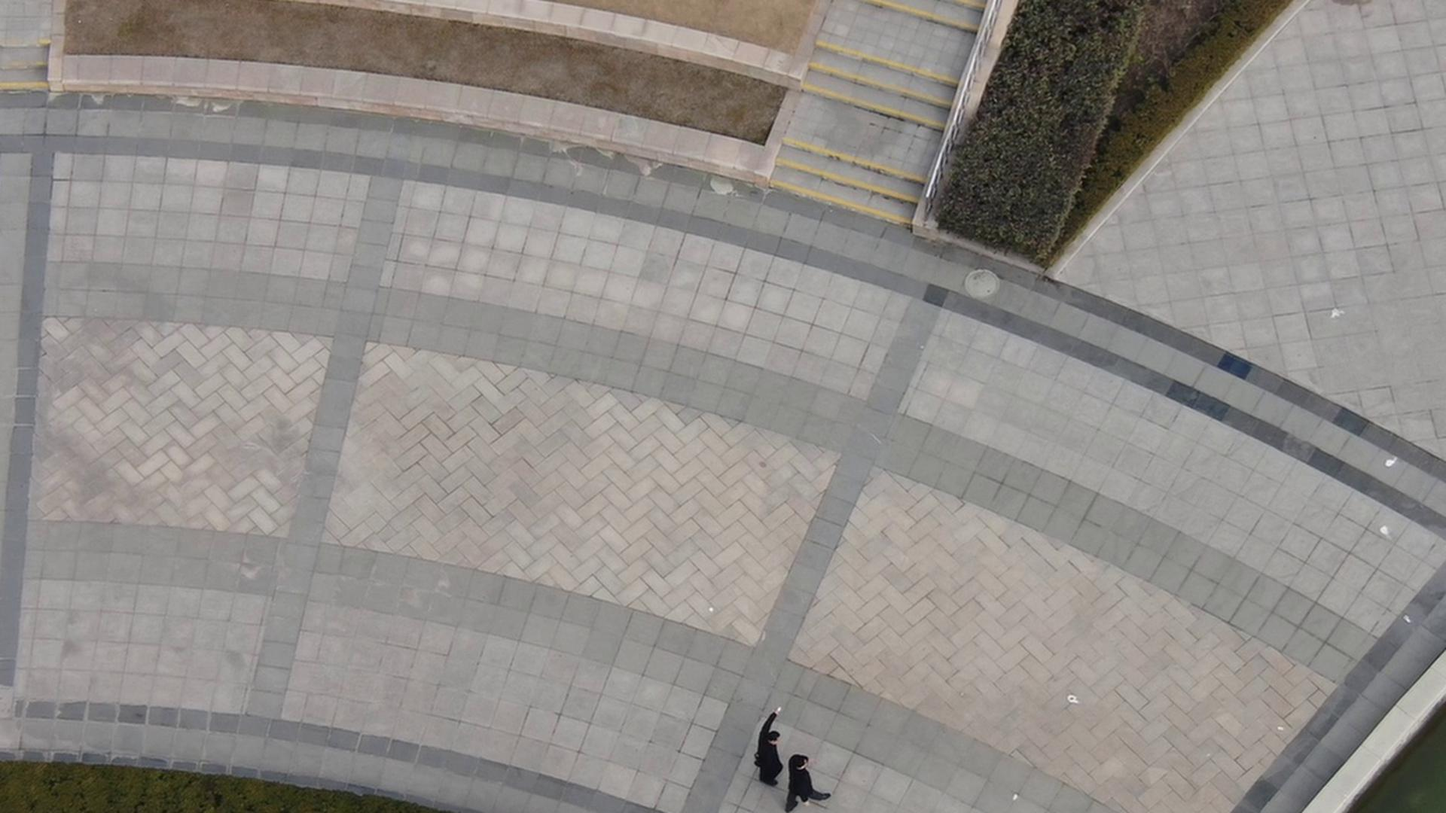human: (764, 708, 801, 802), (803, 757, 849, 813)
